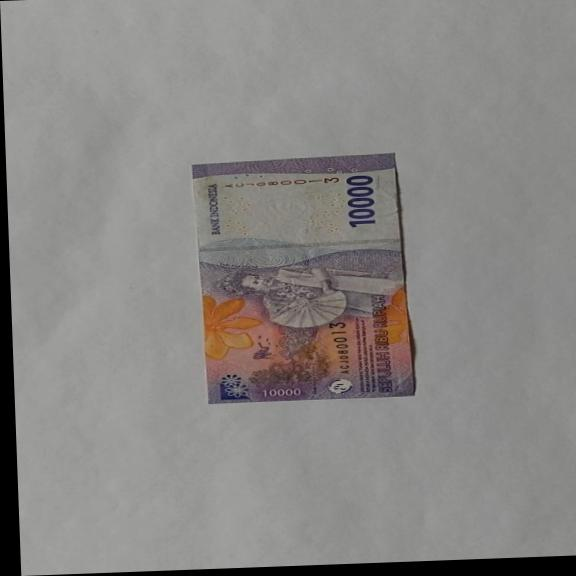Kertas: (190, 152, 416, 405), (343, 173, 377, 229)
